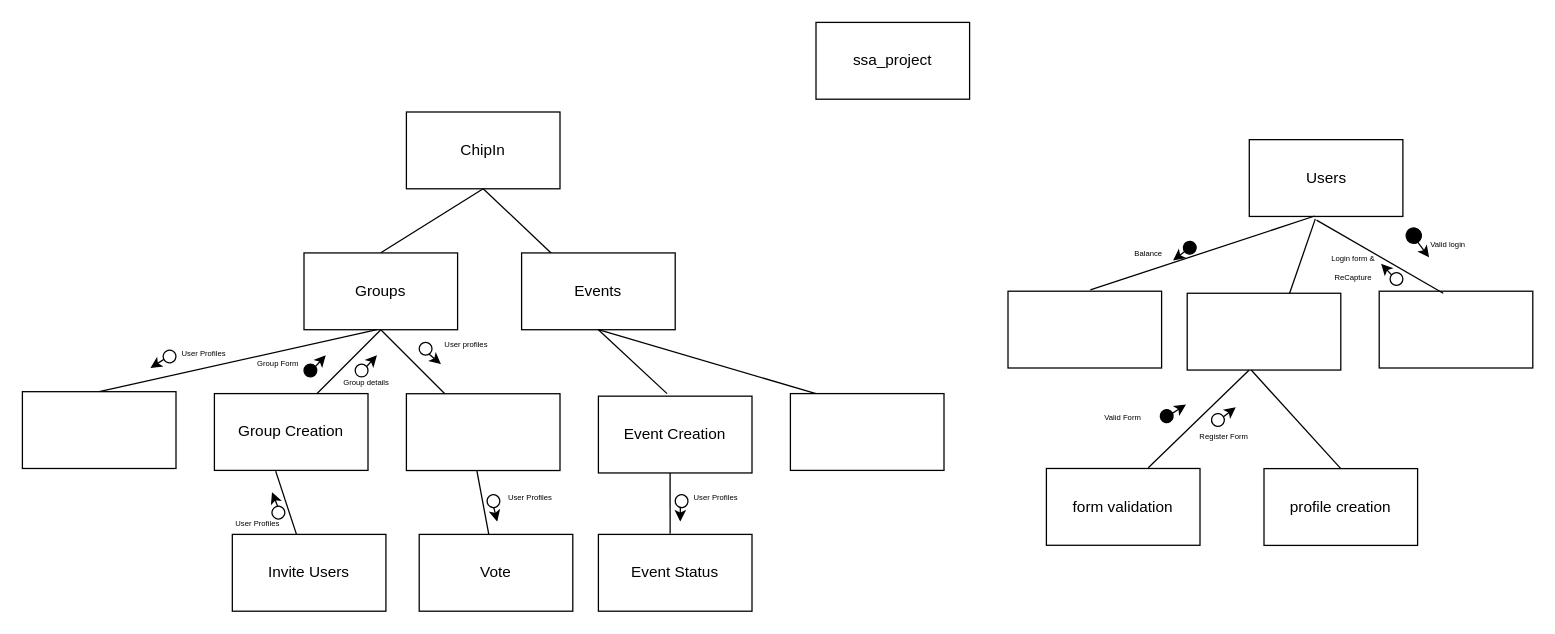
Image size: 1555x634. Some labels were removed from this diagram. Here are the shapes that lost their labels. From the top down, the box of each, then its label:
(1007, 290, 1162, 368): Top Up Balance
(1186, 292, 1341, 370): Registeration
(1378, 290, 1533, 368): Authentication
(21, 390, 176, 468): Comment Management
(405, 392, 560, 471): Join Requests
(789, 392, 944, 470): Event Share
